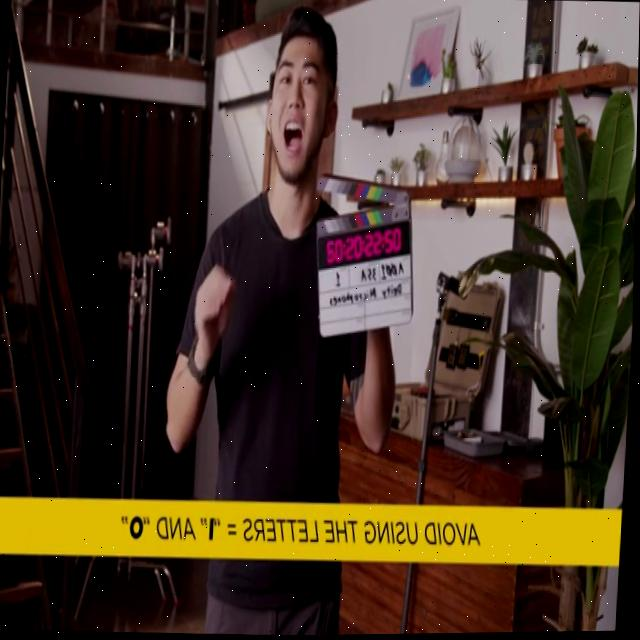Clapperboard: (310, 170, 422, 339)
